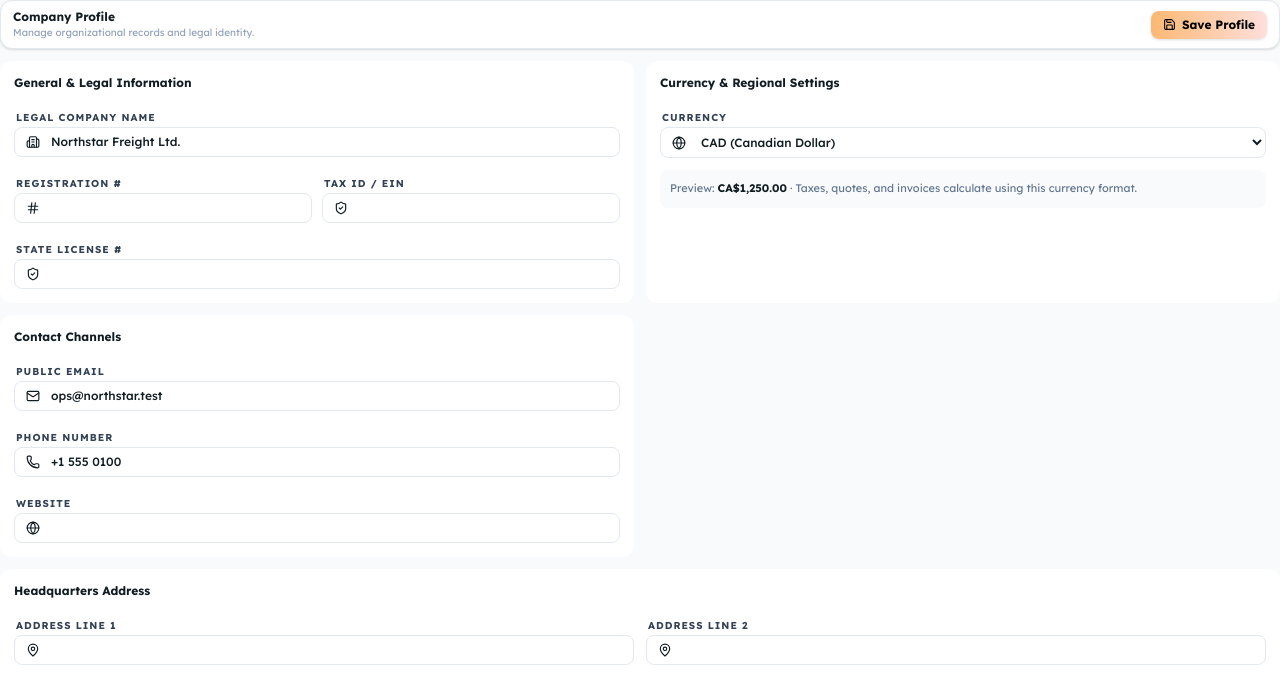
Test: CompanySettings › saves edits to the loaded company
Replace the text in the field showing "Northstar Freight Ltd." with "Updated Freight Ltd." at {"x": 317, "y": 142}, box [14, 127, 620, 157]
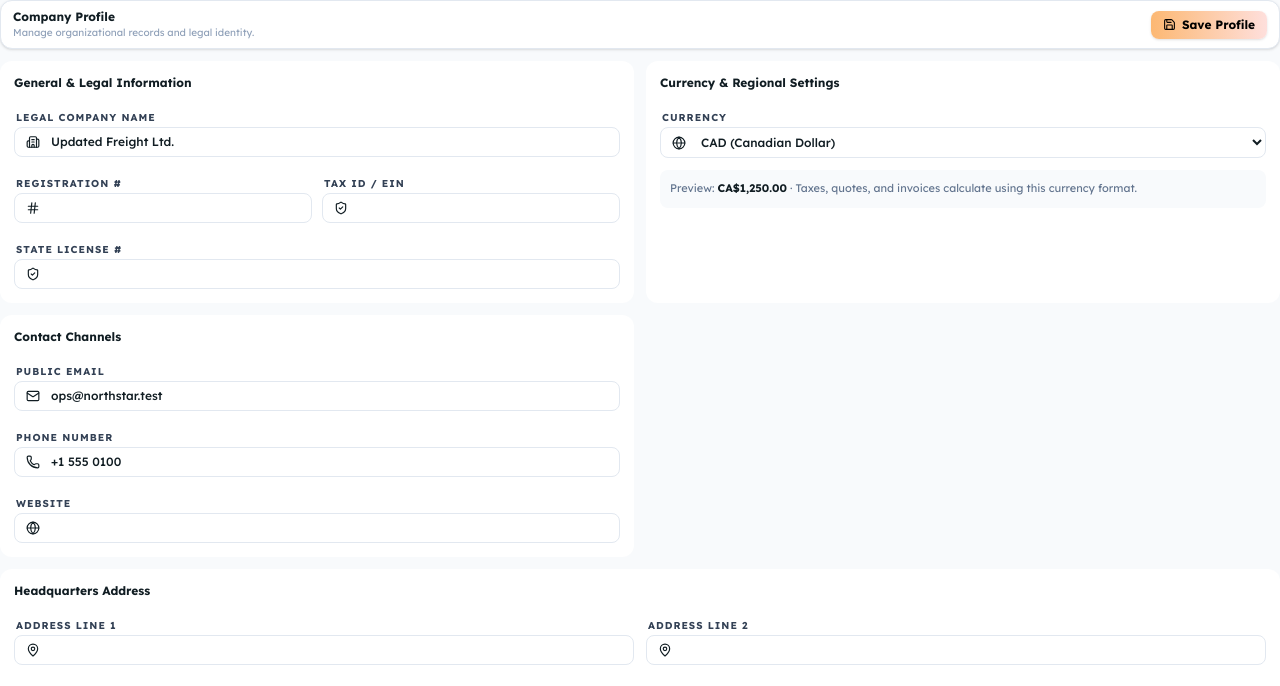
Click the button "Save Profile".
click(1209, 24)  # box [1151, 10, 1267, 38]
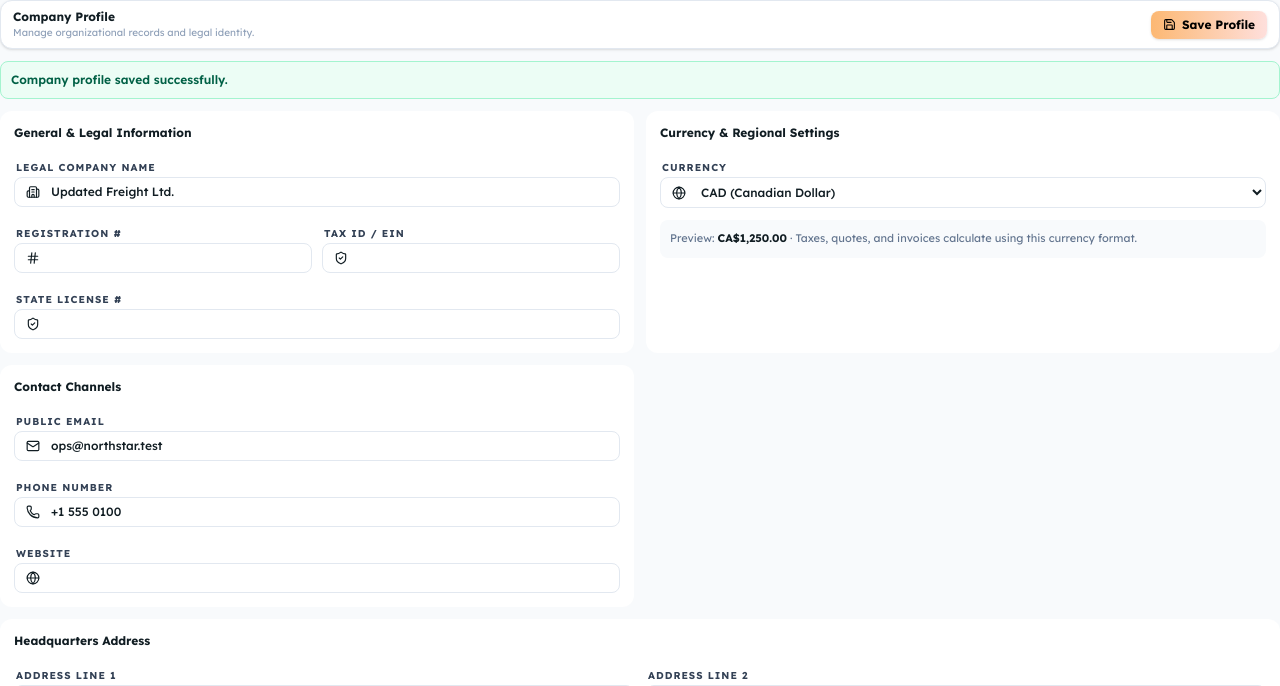
Result: the text "Company profile saved successfully." is shown at [0, 61, 1279, 99]
